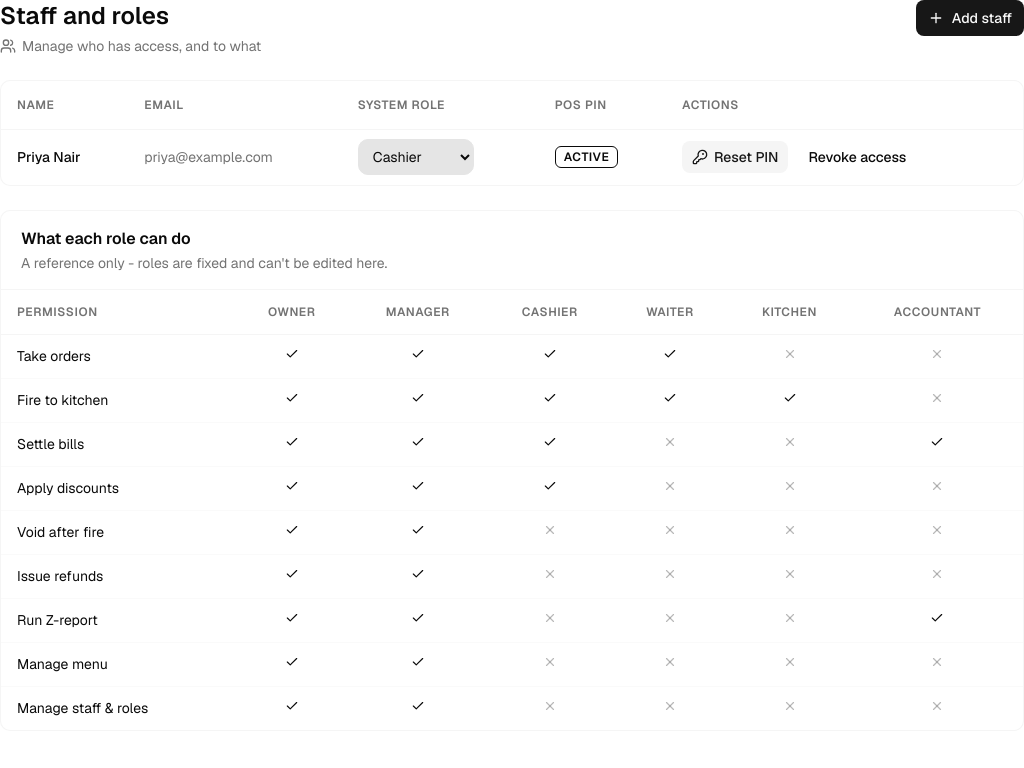
Staff › cancelling the revoke dialog leaves the PIN active
Check: the row with test id "staff-row-s1" is shown, box top-left (1, 129), bottom-right (1023, 185)
Click the button with test id "staff-revoke-pin-s1".
click(857, 157)  # box top-left (796, 141), bottom-right (918, 173)
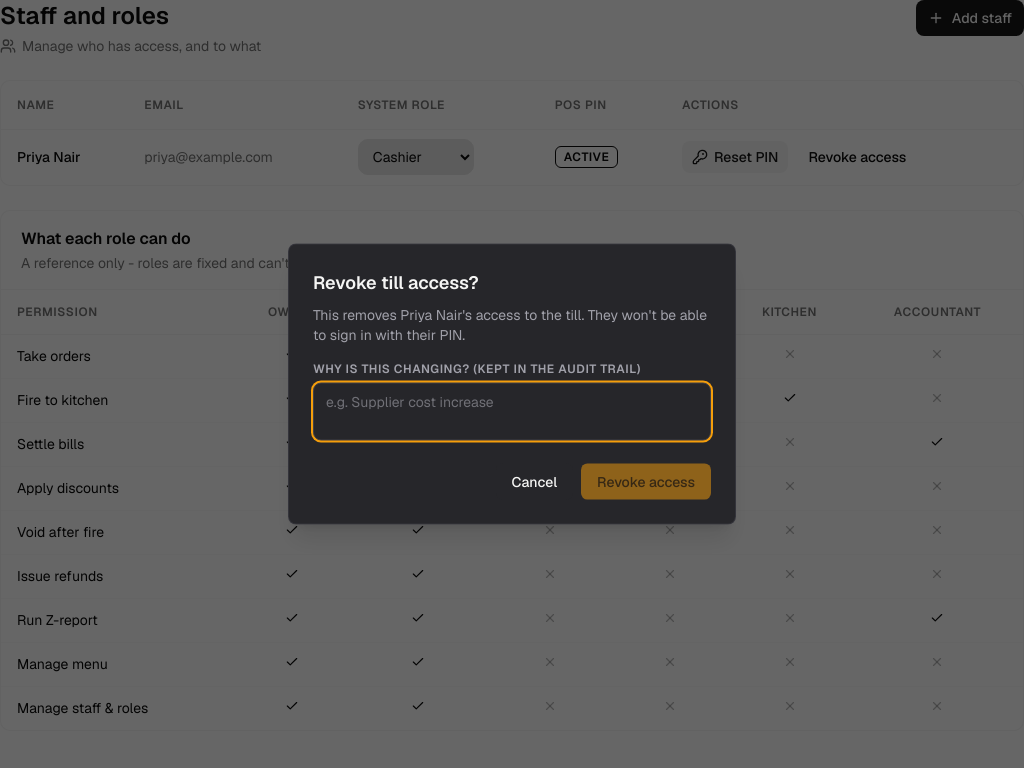
Check: the dialog with test id "confirm-reason-dialog" is shown, box top-left (288, 244), bottom-right (736, 524)
Click the button with test id "confirm-cancel".
click(534, 482)  # box top-left (496, 464), bottom-right (573, 500)
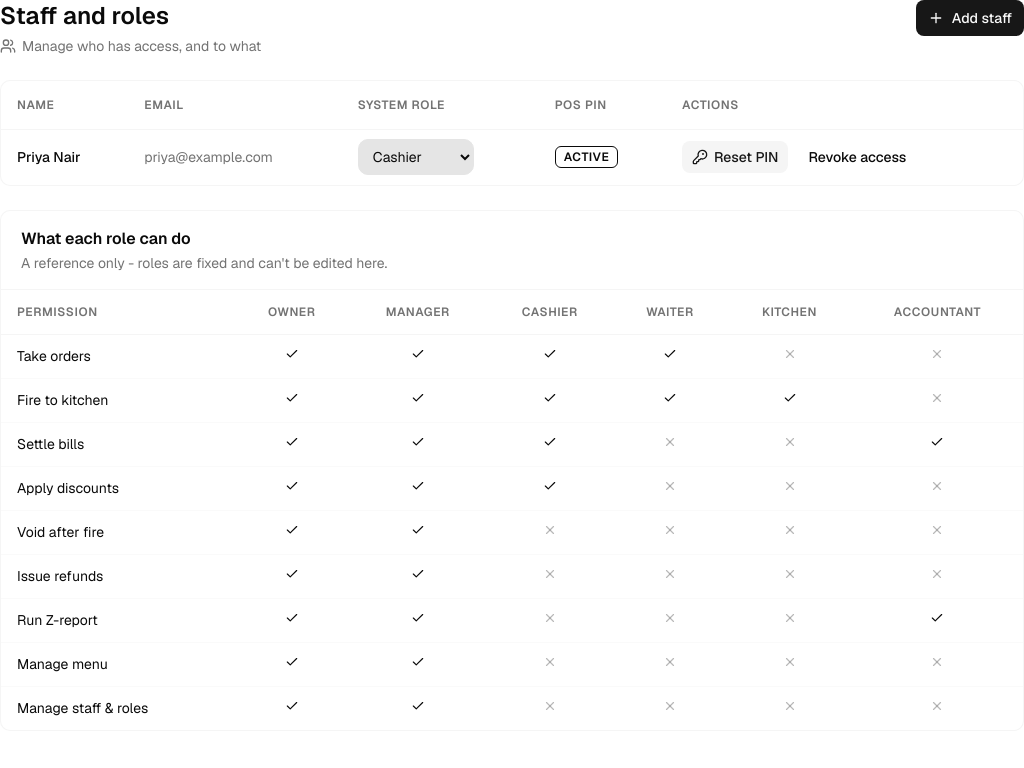
Check: the text with test id "staff-pin-status-s1" reads "Active", box top-left (564, 149), bottom-right (609, 165)
Check: the dialog with test id "confirm-reason-dialog" is gone
